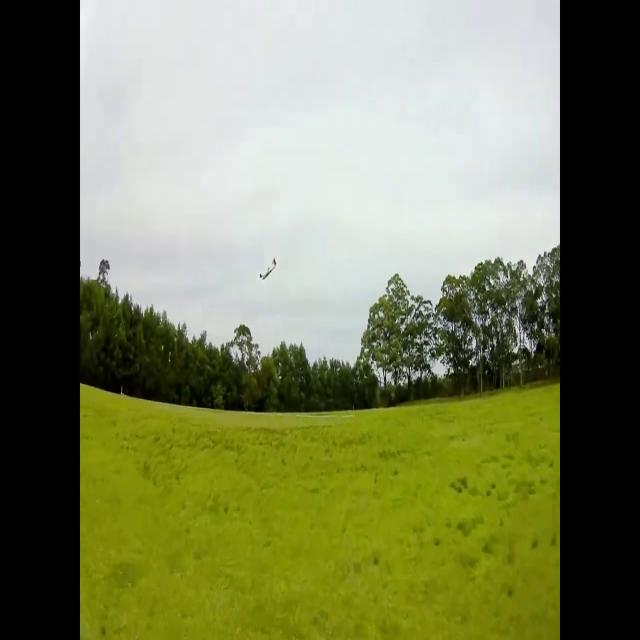iha: (253, 258, 269, 280)
